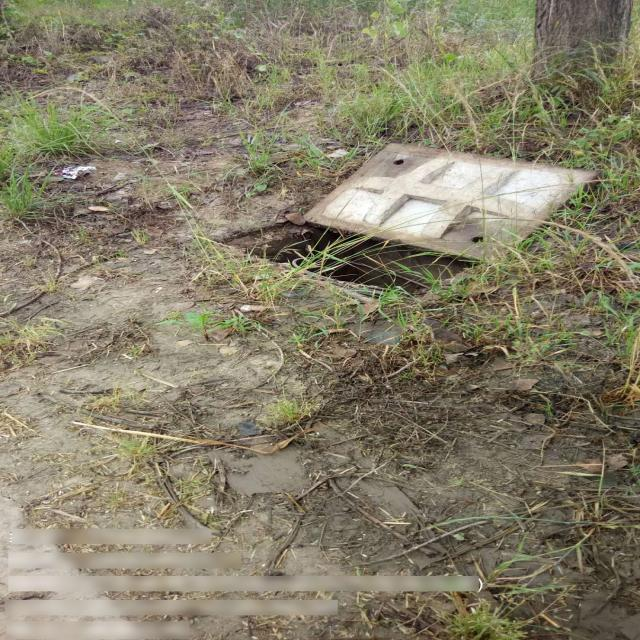Faulty: (208, 144, 598, 300)
